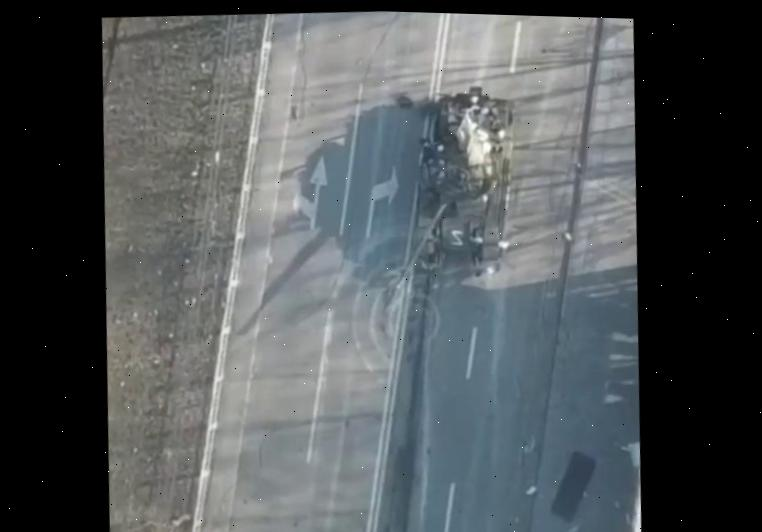tank: (374, 81, 529, 315)
